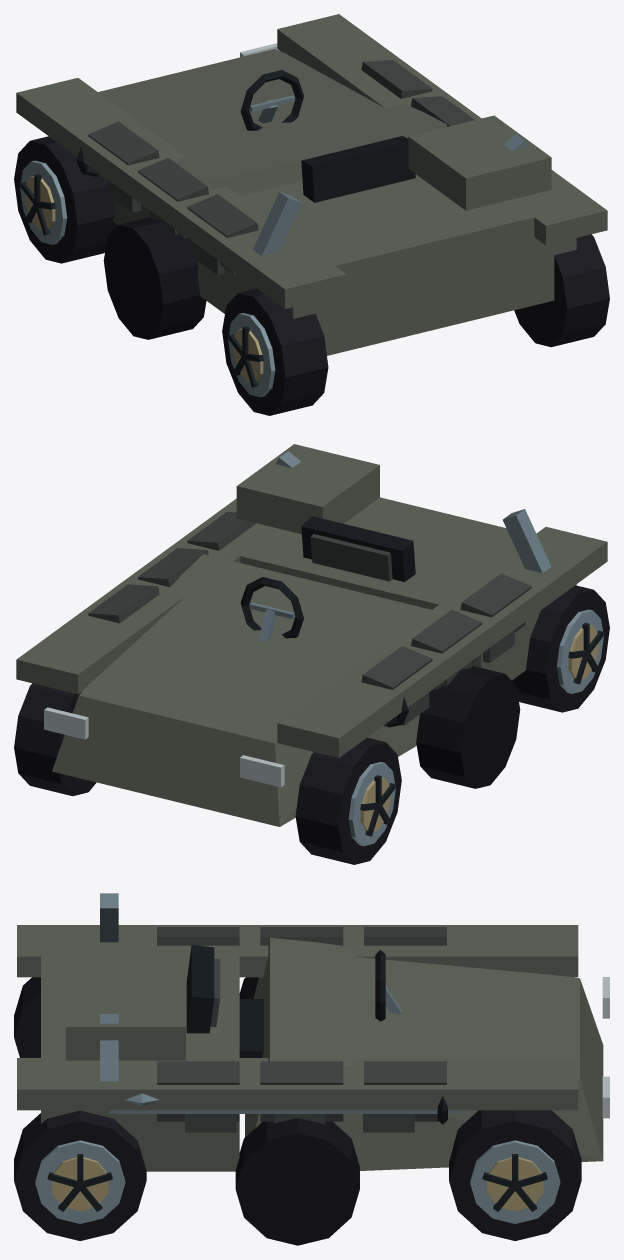
File: kart.glb
3 views of the same model, one above another, from view 1: azimuth 30°, elevation 25°; view 2: azimuth 150°, elevation 25°; view 3: azimuth 270°, elevation 25° (orthographic). The views are drawn at different scales.
Parts seen in each view (by area): view 1: identity-apc-apc-armored-hull, wheel-rear-left, wheel-front-left, identity-apc-motif-armor, identity-apc-driver-cockpit, wheel-rear-right, identity-apc-motif-pipes; view 2: identity-apc-apc-armored-hull, wheel-front-left, identity-apc-motif-armor, wheel-rear-left, identity-apc-driver-cockpit, wheel-front-right, identity-apc-motif-pipes; view 3: identity-apc-apc-armored-hull, wheel-front-right, wheel-rear-right, identity-apc-motif-armor, identity-apc-driver-cockpit, identity-apc-motif-pipes, wheel-rear-left.
Part boxes in pixels (x1=…): identity-apc-apc-armored-hull: x1=16, y1=14, x2=607, y2=355; wheel-rear-left: x1=222, y1=288, x2=328, y2=415; wheel-front-left: x1=14, y1=136, x2=117, y2=263; identity-apc-motif-armor: x1=88, y1=60, x2=474, y2=274; identity-apc-driver-cockpit: x1=240, y1=70, x2=415, y2=202; wheel-rear-right: x1=514, y1=234, x2=609, y2=347; identity-apc-motif-pipes: x1=76, y1=134, x2=528, y2=256; identity-apc-apc-armored-hull: x1=16, y1=444, x2=607, y2=826; wheel-front-left: x1=295, y1=737, x2=401, y2=864; identity-apc-motif-armor: x1=88, y1=512, x2=531, y2=726; wheel-rear-left: x1=512, y1=585, x2=609, y2=712; identity-apc-driver-cockpit: x1=240, y1=516, x2=415, y2=642; wheel-front-right: x1=14, y1=683, x2=96, y2=796; identity-apc-motif-pipes: x1=276, y1=451, x2=551, y2=727; identity-apc-apc-armored-hull: x1=17, y1=925, x2=609, y2=1245; wheel-front-right: x1=449, y1=1110, x2=581, y2=1240; wheel-rear-right: x1=14, y1=1110, x2=146, y2=1240; identity-apc-motif-armor: x1=157, y1=927, x2=446, y2=1121; identity-apc-driver-cockpit: x1=186, y1=945, x2=401, y2=1057; identity-apc-motif-pipes: x1=100, y1=893, x2=461, y2=1124; wheel-rear-left: x1=14, y1=977, x2=40, y2=1057.
Bounding box in the file's own units: 2.08 × 1.09 × 2.88.
